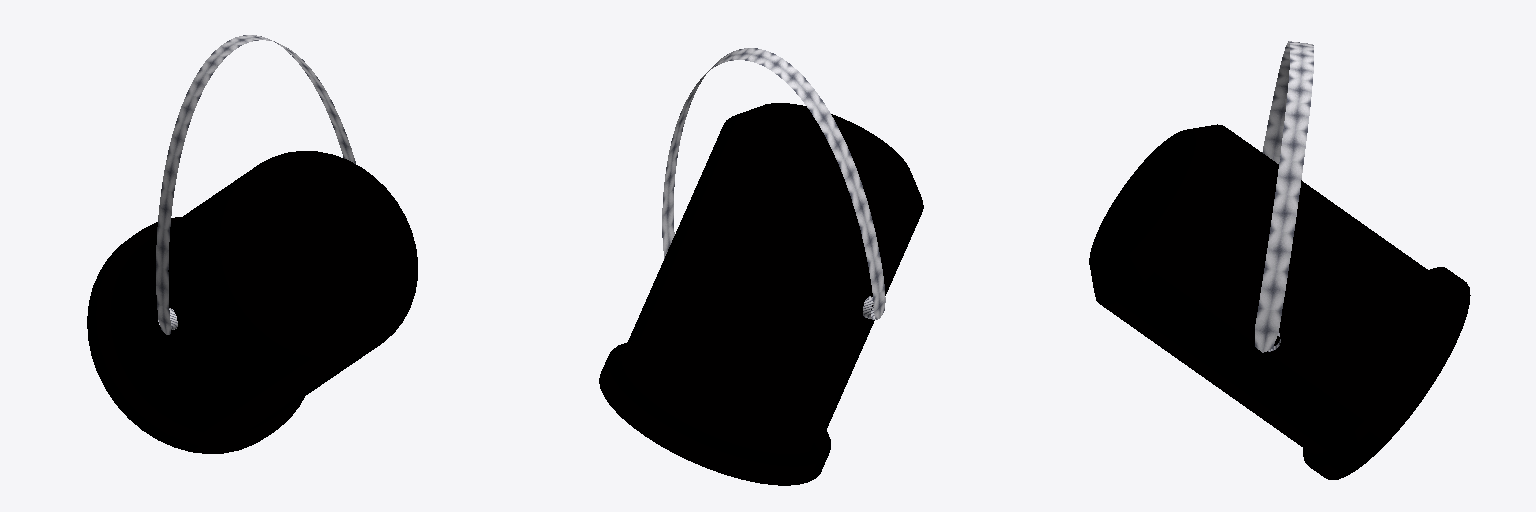
The picture shows the model from 3 angles: view 1: azimuth 30°, elevation 25°; view 2: azimuth 150°, elevation 25°; view 3: azimuth 270°, elevation 25°; orthographic projection.
Parts seen in each view (by area): view 1: Cylinder.006_Cylinder.015; view 2: Cylinder.006_Cylinder.015; view 3: Cylinder.006_Cylinder.015.
Boxes of the visible parts, x1,y1,x2,y2 form: Cylinder.006_Cylinder.015: [87, 35, 417, 453]; Cylinder.006_Cylinder.015: [599, 48, 923, 485]; Cylinder.006_Cylinder.015: [1089, 41, 1470, 479].
Size of the model in its own units: 0.7415 by 1.41 by 1.16.
Materials: 3 (1 with a texture image).